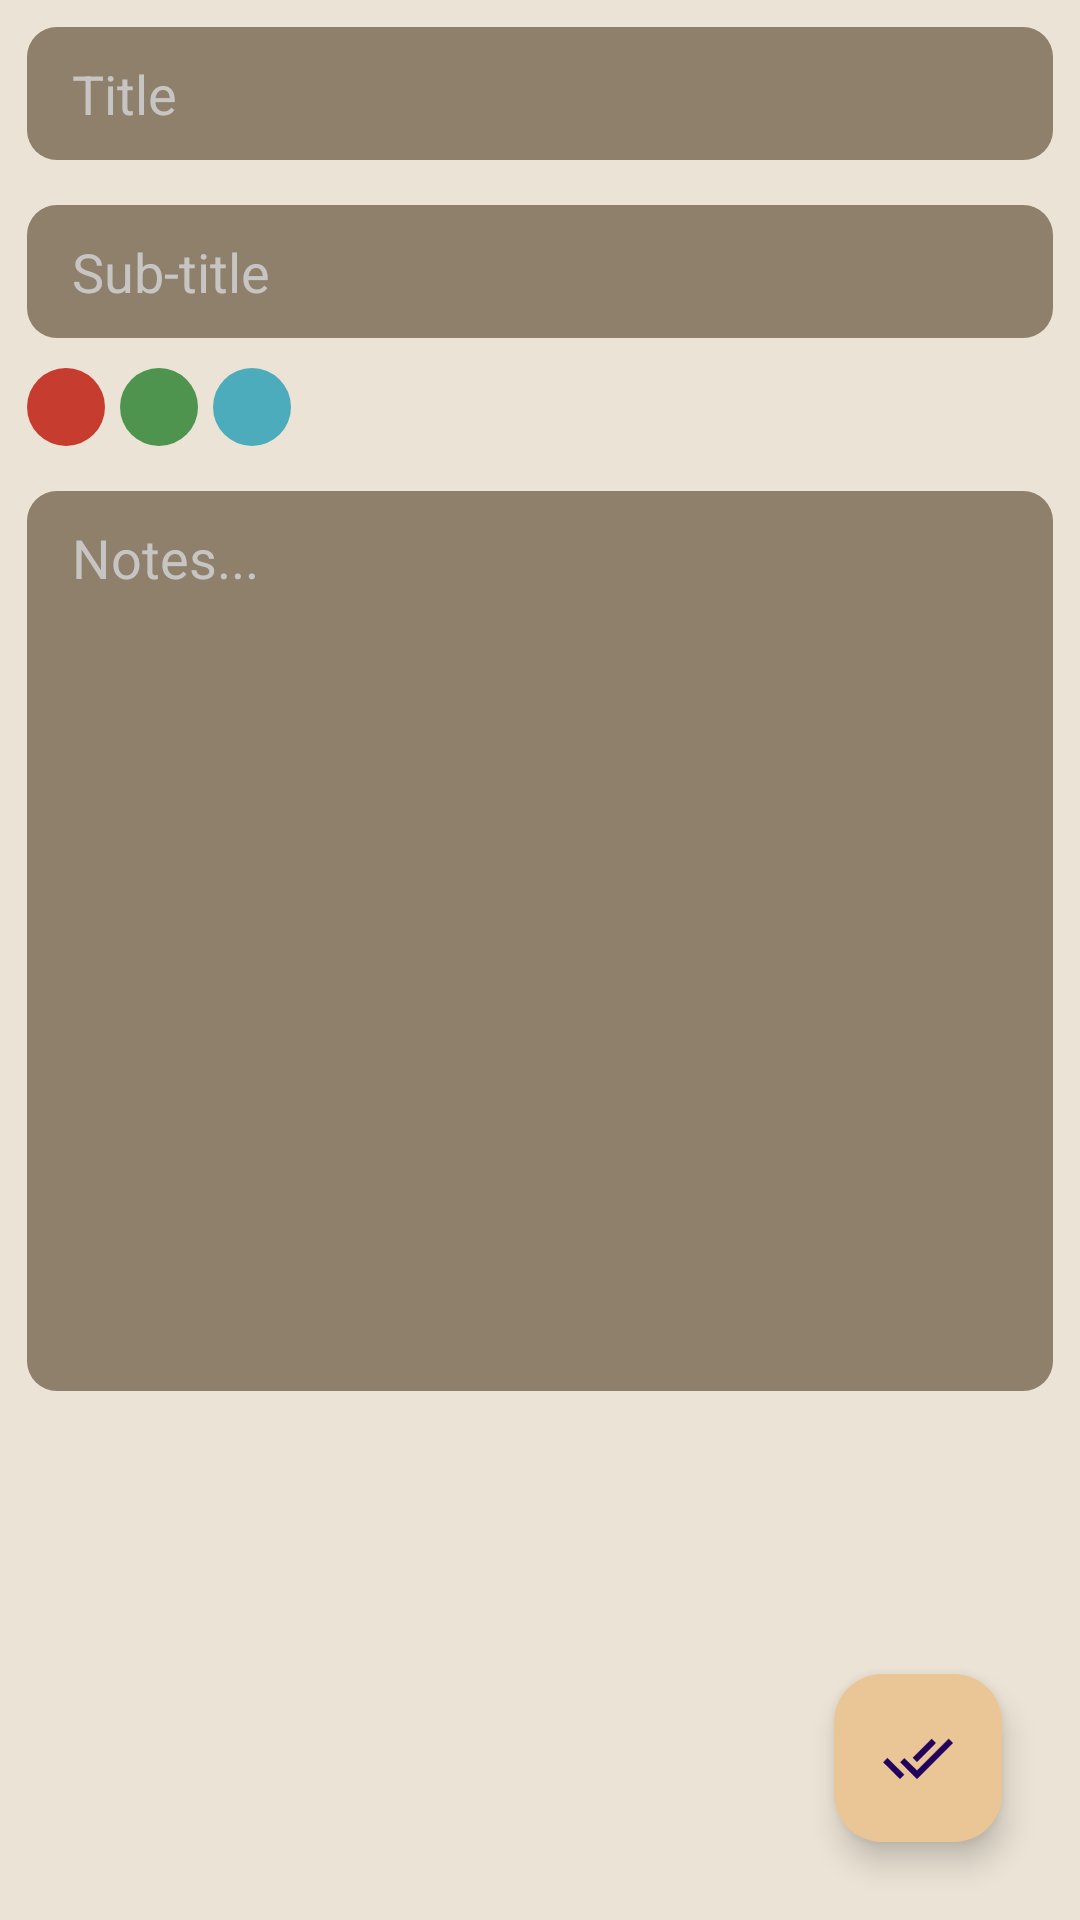

Where icons sit on this 1080 × 1920 app screen, as {"x1": x1, "y1": y1, "x2": x2, "y2": y2}:
Notes saving button: {"x1": 834, "y1": 1674, "x2": 1002, "y2": 1842}
